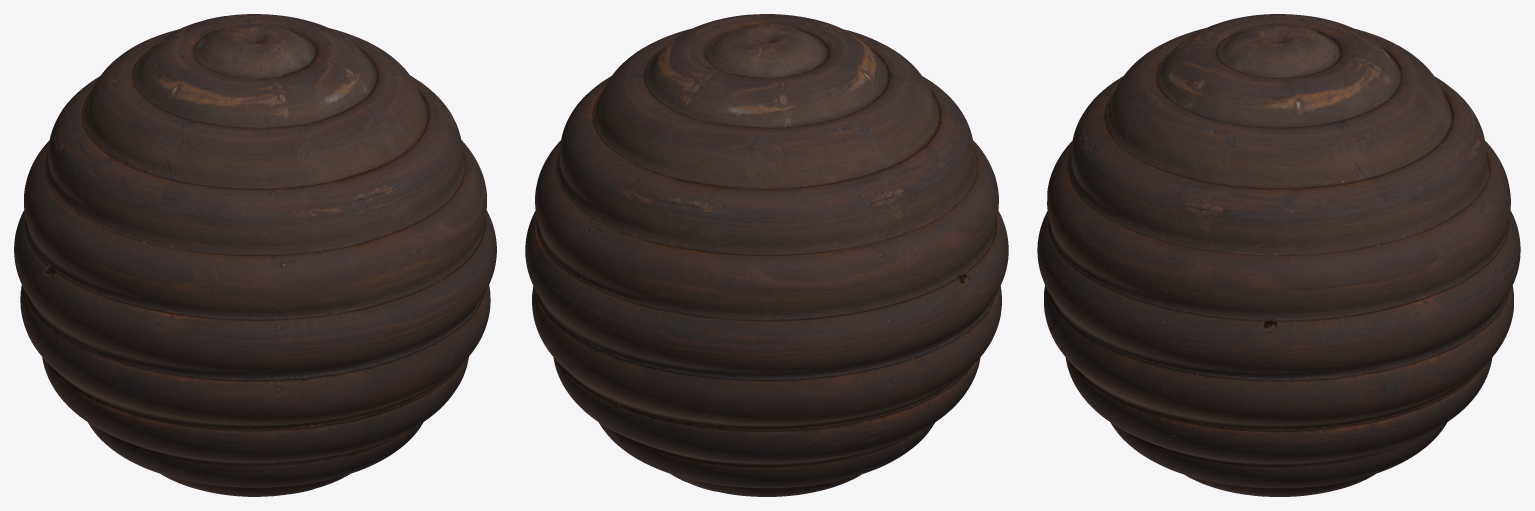
File: wood_plank_wall_1k.glb
3 renders of one model, left to right at view 1: azimuth 30°, elevation 25°; view 2: azimuth 150°, elevation 25°; view 3: azimuth 270°, elevation 25°, orthographic.
Visible parts, largest first — view 1: sphere_gltf; view 2: sphere_gltf; view 3: sphere_gltf.
Boxes of the visible parts, <box> form: sphere_gltf: <box>14,14,496,496</box>; sphere_gltf: <box>525,14,1008,496</box>; sphere_gltf: <box>1037,14,1520,496</box>.
Size of the model in its own units: 1.03 by 1.02 by 1.02.
Materials: 1 (1 with a texture image).
